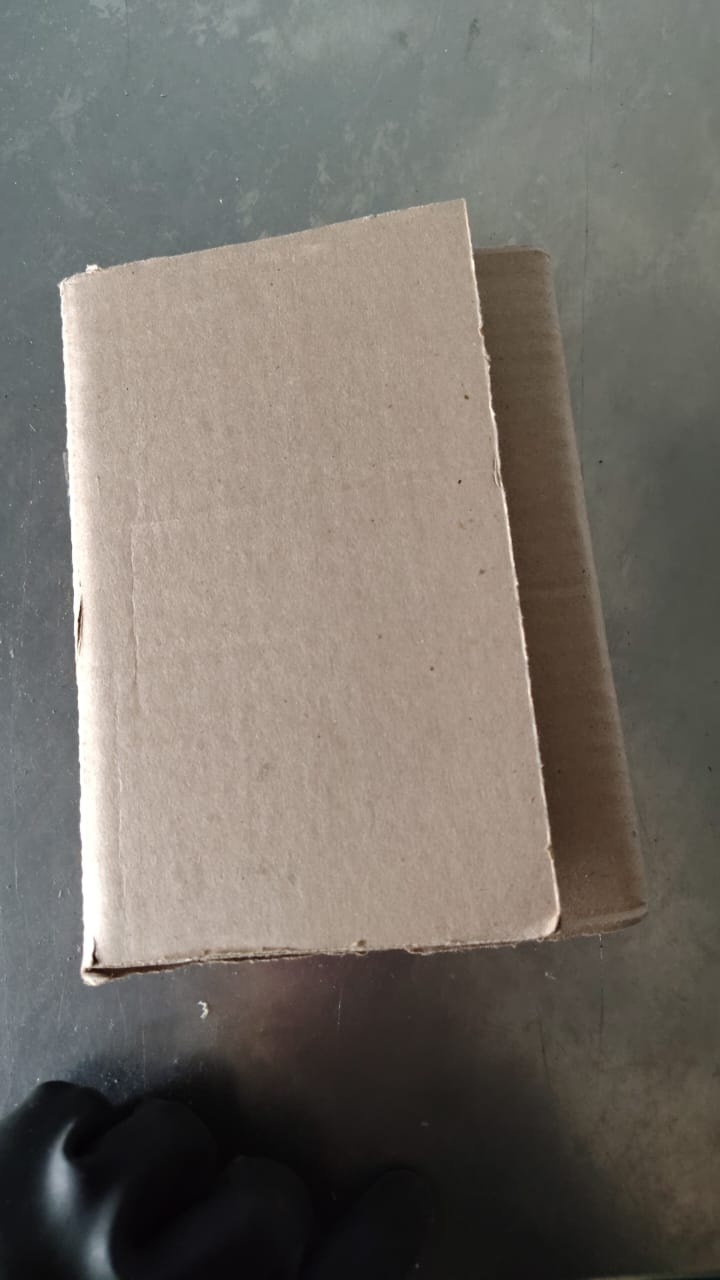Carton: (61, 198, 650, 989)
